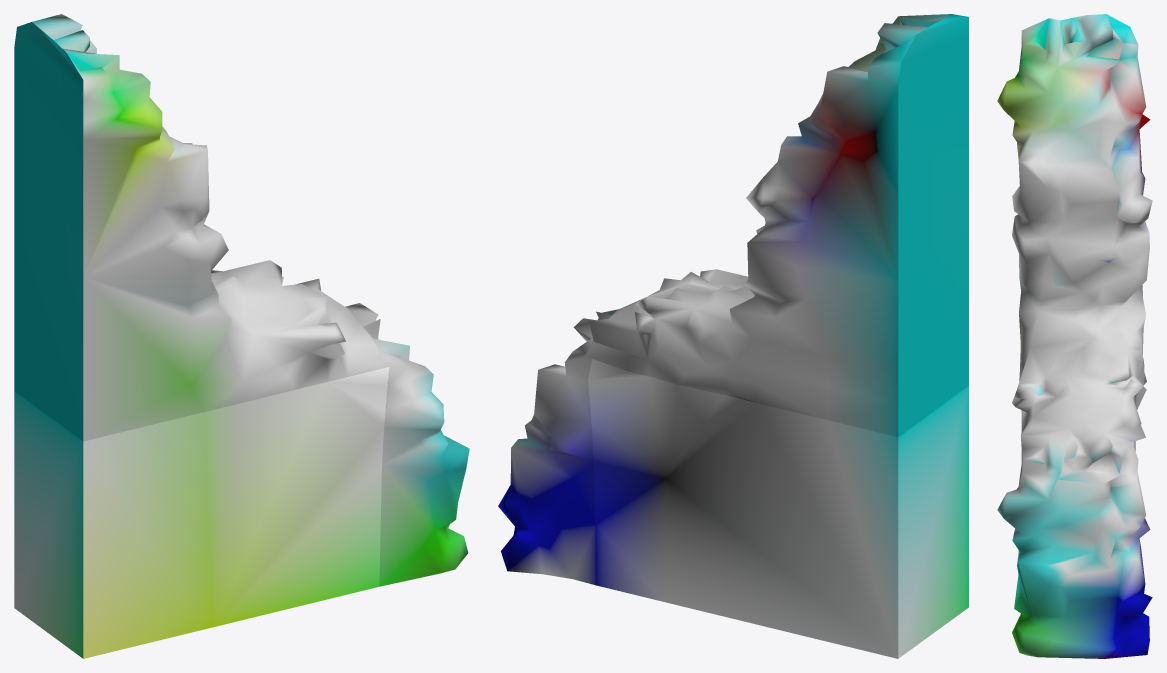
File: SM_Throne_Interior_Wall_BrokenPiece_03.fbx
The picture shows the model from 3 angles, left to right: view 1: azimuth 30°, elevation 25°; view 2: azimuth 150°, elevation 25°; view 3: azimuth 270°, elevation 25°; orthographic projection. The views are drawn at different scales.
Visible parts, largest first — view 1: SM_Throne_Interior_Wall_BrokenPiece_03; view 2: SM_Throne_Interior_Wall_BrokenPiece_03; view 3: SM_Throne_Interior_Wall_BrokenPiece_03.
Boxes of the visible parts, x1,y1,x2,y2 form: SM_Throne_Interior_Wall_BrokenPiece_03: [14, 14, 469, 658]; SM_Throne_Interior_Wall_BrokenPiece_03: [498, 14, 968, 658]; SM_Throne_Interior_Wall_BrokenPiece_03: [997, 14, 1152, 658].
Bounding box in the file's own units: 3.64 × 5.3 × 1.52.
